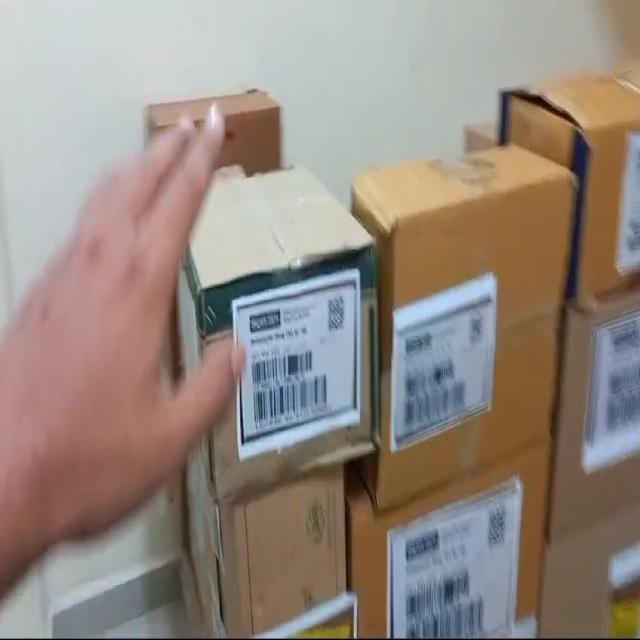BoxFace: (354, 158, 580, 509), (185, 187, 376, 498), (350, 447, 549, 640)
